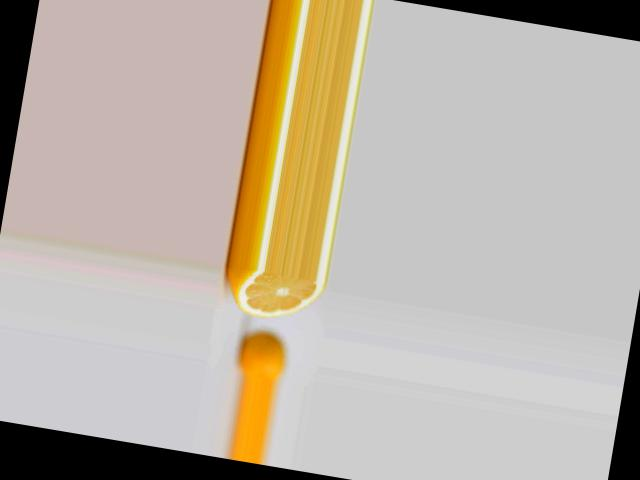lemon: (239, 331, 286, 382)
